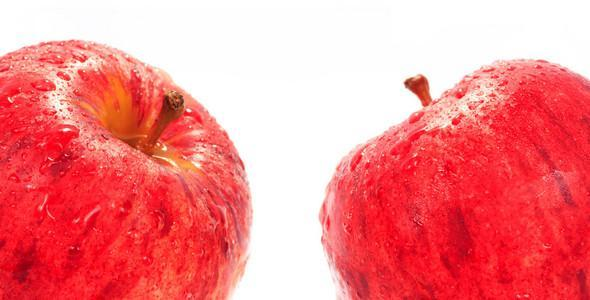apple: (313, 55, 590, 300), (1, 40, 252, 300)
